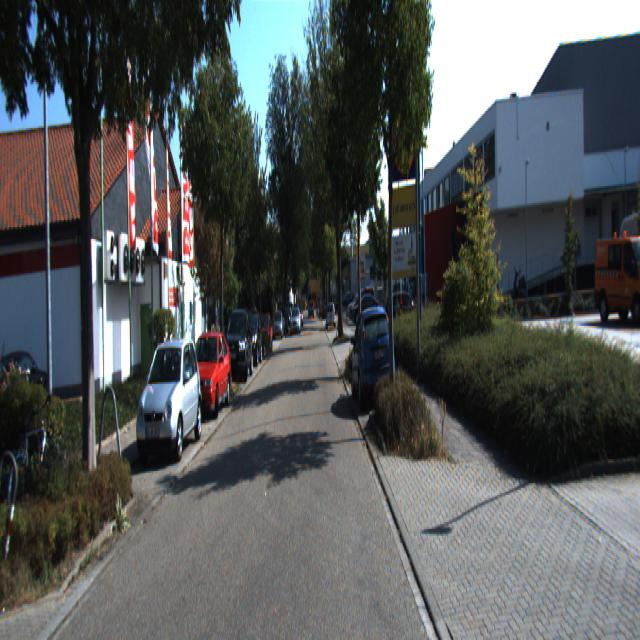Car: (135, 334, 202, 463), (592, 221, 640, 325), (350, 303, 395, 409), (184, 330, 232, 421), (223, 309, 254, 387), (239, 312, 263, 369)
